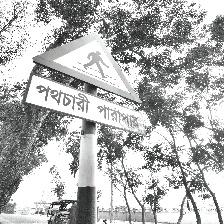Pedestrian-crossing: (24, 30, 153, 138)
